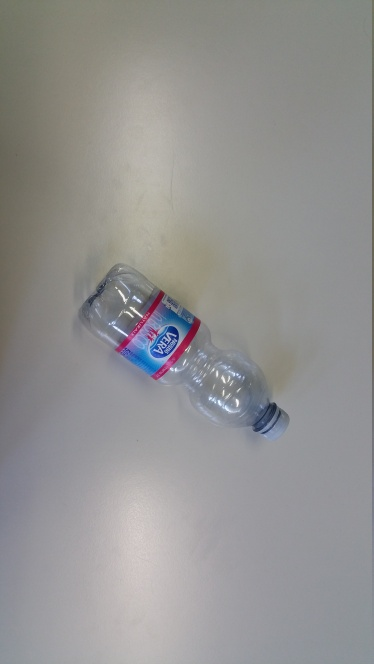bottle: (73, 264, 293, 447)
